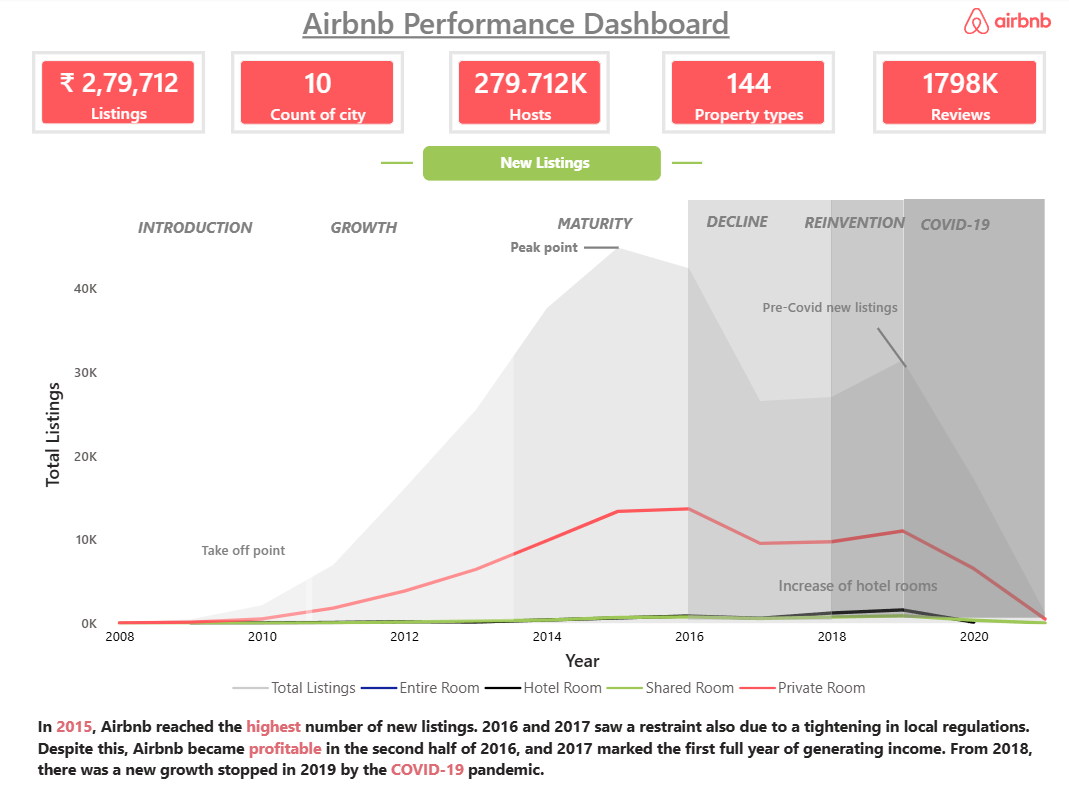

What the dashboard file says about the page in this screenshot:
{"tool":"powerbi","page":{"name":"Overview","canvas":[960,720],"ordinal":0},"visuals":[{"type":"textbox","box":[223,-0.5,480,50.1],"z":0},{"type":"image","box":[864.2,4.9,77.9,34],"z":1000},{"type":"cardVisual","fields":{"Data":["CountNonNull(Listings.listing_id)"]},"box":[29.6,48.8,154.9,74.3],"z":2000},{"type":"cardVisual","fields":{"Data":["CountNonNull(Listings.host_id)"]},"box":[403,48.8,144.2,74.3],"z":3000},{"type":"cardVisual","fields":{"Data":["Count(Listings.property_type)"]},"box":[593.7,48.8,154.9,74.3],"z":4000},{"type":"cardVisual","fields":{"Data":["Sum(Listings.review_scores_accuracy)"]},"box":[782.7,48.8,155,74.3],"z":5000},{"type":"cardVisual","fields":{"Data":["Count(Listings.city)"]},"box":[207.8,48.8,154.9,74.3],"z":6000},{"type":"lineChart","fields":{"Category":["Listings.host_since.Variation.Date Hierarchy.Year"],"Y":["CountNonNull(Listings.listing_id)","Listings.Entire Room","Listings.Hotel Room","Listings.Shared Room","Listings.Private Room"]},"box":[35.7,209.5,919.1,428.6],"z":7000},{"type":"textbox","box":[379.8,133.3,213.1,31],"z":8000},{"type":"shape","box":[341.7,117.9,28.6,60.7],"z":9000},{"type":"shape","box":[602.4,117.9,27.4,60.7],"z":10000},{"type":"shape","box":[107.1,178.6,172.6,379.8],"z":11000},{"type":"shape","box":[460.7,181,156,377.4],"z":12000},{"type":"shape","box":[745.2,182.1,65.5,373.8],"z":13000},{"type":"shape","box":[275,178.6,185.7,379.8],"z":14000},{"type":"shape","box":[616.7,182.1,128.6,376.2],"z":15000},{"type":"shape","box":[810.7,181,126.2,375],"z":16000},{"type":"textbox","box":[94.8,192.4,161.2,34],"z":17000},{"type":"textbox","box":[291.8,192.4,87.8,26.9],"z":18000},{"type":"textbox","box":[495.2,189.3,92.9,27.4],"z":19000},{"type":"textbox","box":[820.1,189.7,80.6,29.6],"z":20000},{"type":"textbox","box":[716.7,188.1,110.7,27.4],"z":21000},{"type":"textbox","box":[628.6,186.9,89.3,27.4],"z":22000},{"type":"textbox","box":[176.2,481,91.7,32.1],"z":23000},{"type":"textbox","box":[453.6,209.5,83.3,32.1],"z":24000},{"type":"shape","box":[523.8,209.5,31,29.8],"z":25000},{"type":"textbox","box":[678.6,263.1,132.1,32.1],"z":26000},{"type":"shape","box":[776.2,295.2,46.4,36.9],"z":27000},{"type":"textbox","box":[692.9,513.1,159.5,32.1],"z":28000},{"type":"textbox","box":[29.8,638.1,907.1,69],"z":29000}]}

Visuals, with their boxes in screenshot pixels (x1, y1, x2, y2), scaled from the page's 960x720 canvas onto the 1069x796 screenshot:
textbox: bbox=[248, 0, 783, 55]
image: bbox=[962, 5, 1049, 43]
cardVisual - CountNonNull(Listings.listing_id): bbox=[33, 54, 205, 136]
cardVisual - CountNonNull(Listings.host_id): bbox=[449, 54, 609, 136]
cardVisual - Count(Listings.property_type): bbox=[661, 54, 834, 136]
cardVisual - Sum(Listings.review_scores_accuracy): bbox=[872, 54, 1044, 136]
cardVisual - Count(Listings.city): bbox=[231, 54, 404, 136]
lineChart - Listings.host_since.Variation.Date Hierarchy.Year x CountNonNull(Listings.listing_id): bbox=[40, 232, 1063, 705]
textbox: bbox=[423, 147, 660, 182]
shape: bbox=[380, 130, 412, 197]
shape: bbox=[671, 130, 701, 197]
shape: bbox=[119, 197, 311, 617]
shape: bbox=[513, 200, 687, 617]
shape: bbox=[830, 201, 903, 615]
shape: bbox=[306, 197, 513, 617]
shape: bbox=[687, 201, 830, 617]
shape: bbox=[903, 200, 1043, 615]
textbox: bbox=[106, 213, 285, 250]
textbox: bbox=[325, 213, 423, 242]
textbox: bbox=[551, 209, 655, 240]
textbox: bbox=[913, 210, 1003, 242]
textbox: bbox=[798, 208, 921, 238]
textbox: bbox=[700, 207, 799, 237]
textbox: bbox=[196, 532, 298, 567]
textbox: bbox=[505, 232, 598, 267]
shape: bbox=[583, 232, 618, 265]
textbox: bbox=[756, 291, 903, 326]
shape: bbox=[864, 326, 916, 367]
textbox: bbox=[772, 567, 949, 603]
textbox: bbox=[33, 705, 1043, 782]
